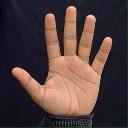hand: (11, 5, 112, 118)
